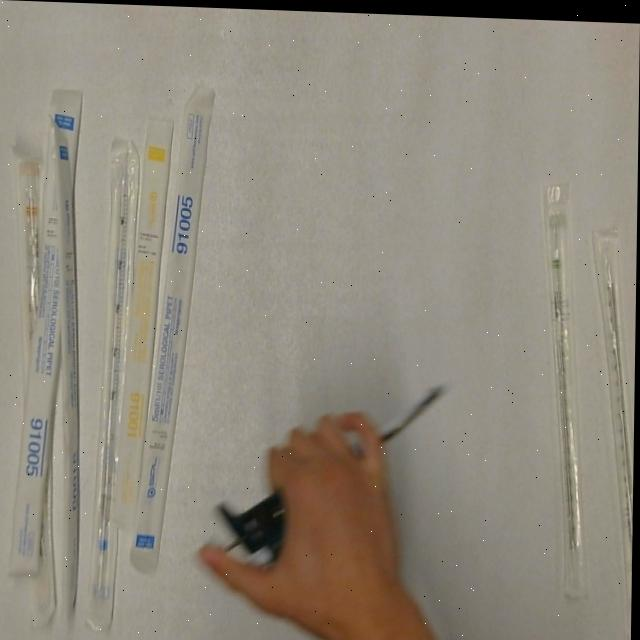Serelogical Pipet 1 mL: (112, 110, 179, 536)
Serelogical Pipet 10 mL: (13, 149, 50, 392)
Serelogical Pipet 2 mL: (533, 171, 599, 600)
Serelogical Pipet 5 mL: (131, 79, 219, 576), (9, 82, 86, 584), (86, 135, 145, 631), (43, 115, 88, 625)
Single Channel Pipettor: (196, 370, 459, 609)
